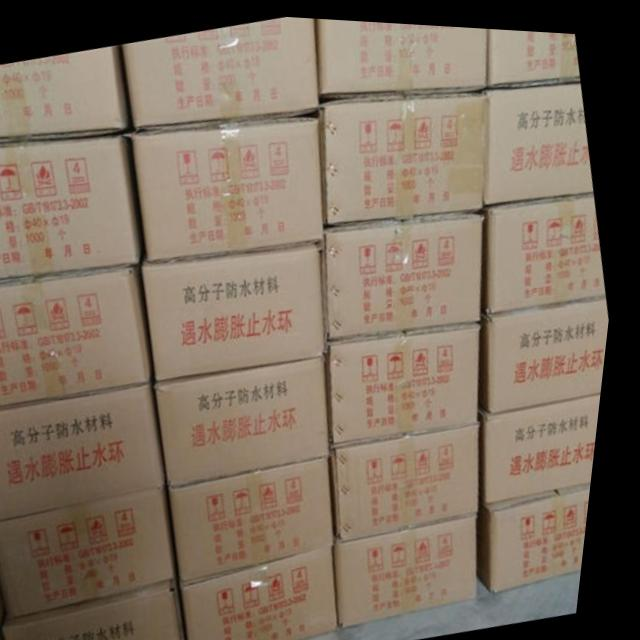box: (134, 106, 330, 260), (149, 234, 335, 379), (0, 481, 189, 617), (0, 379, 178, 519), (119, 14, 325, 129), (0, 263, 164, 407), (164, 352, 342, 482), (321, 87, 488, 222), (0, 130, 147, 281), (330, 200, 489, 339), (180, 452, 348, 577), (333, 314, 488, 439), (338, 417, 490, 538), (348, 506, 490, 621), (191, 542, 354, 640), (490, 186, 612, 309), (486, 289, 614, 406), (488, 69, 597, 200), (318, 15, 489, 94), (490, 386, 609, 495), (0, 44, 131, 140), (488, 475, 601, 586), (17, 578, 202, 640), (488, 23, 579, 87)
